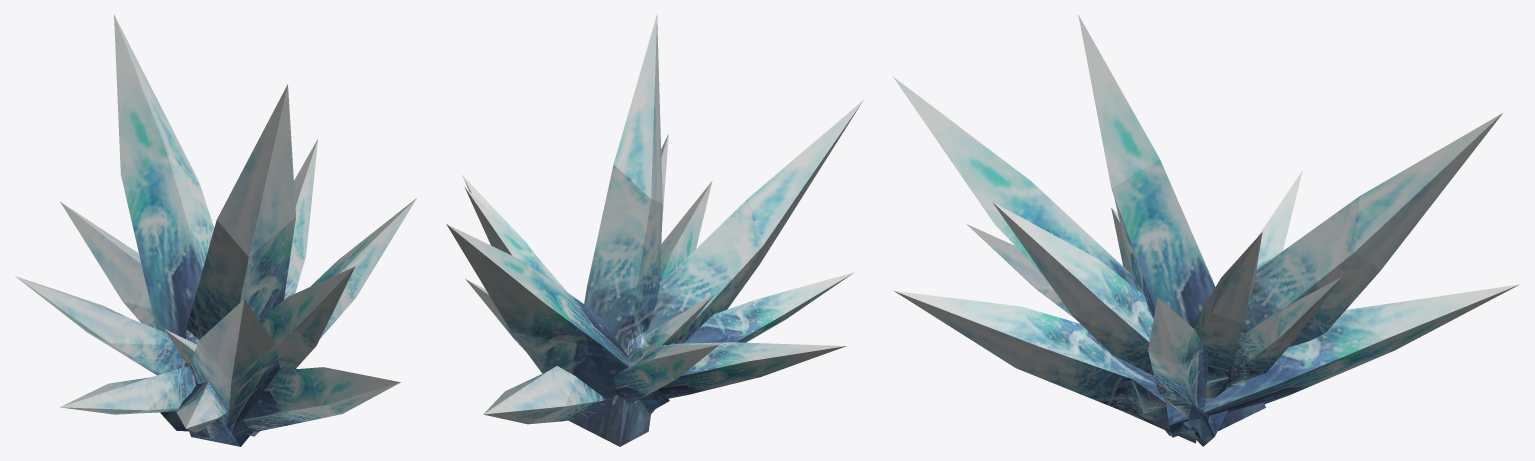
Rendered from bing2.FBX.
The picture shows the model from 3 angles, left to right: view 1: azimuth 30°, elevation 25°; view 2: azimuth 150°, elevation 25°; view 3: azimuth 270°, elevation 25°; orthographic projection. The views are drawn at different scales.
Visible parts, largest first — view 1: wbingzhu012; view 2: wbingzhu012; view 3: wbingzhu012.
Boxes of the visible parts, x1=… form: wbingzhu012: x1=15, y1=14, x2=416, y2=446; wbingzhu012: x1=446, y1=14, x2=863, y2=446; wbingzhu012: x1=893, y1=15, x2=1519, y2=446.
Bounding box in the file's own units: 1768 × 1763 × 2346.
